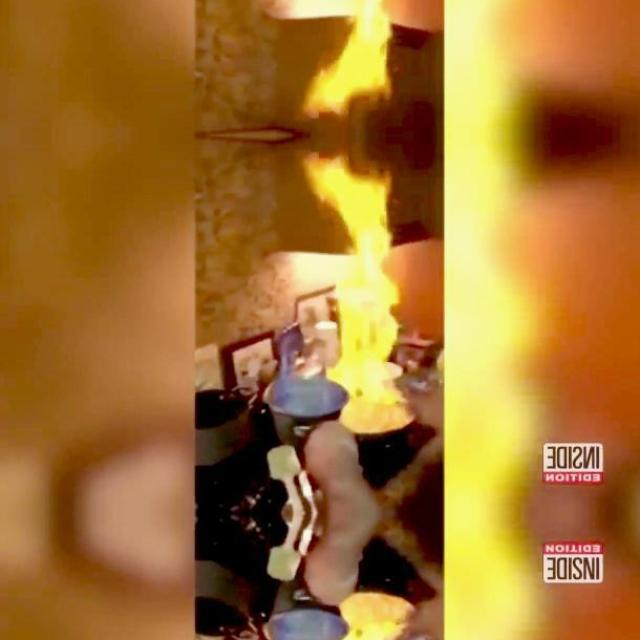smoke: (304, 145, 421, 432), (304, 0, 421, 125), (304, 594, 421, 640)
